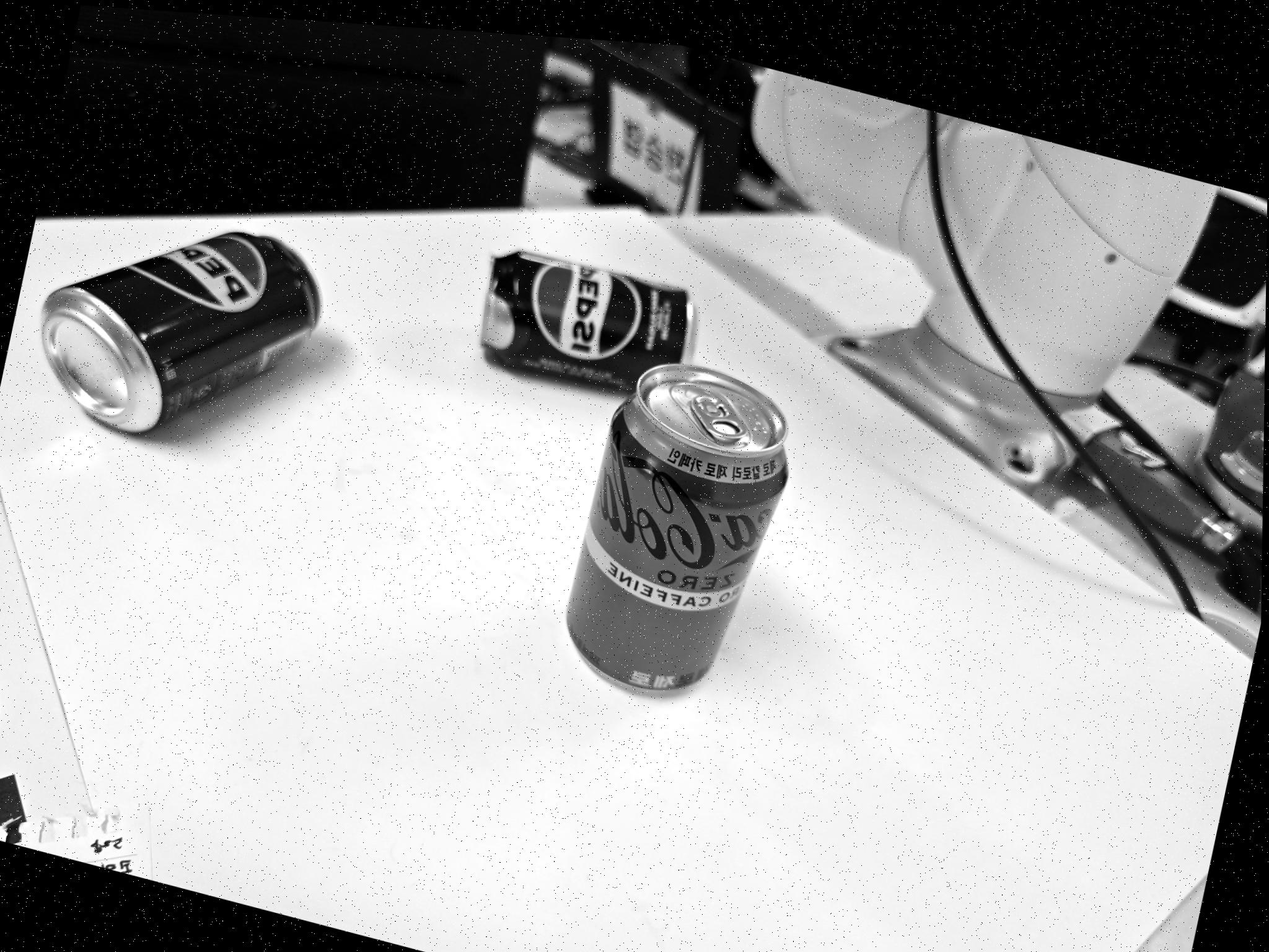can_coke_decaf: (566, 362, 788, 696)
can_pepsi: (37, 230, 322, 433)
can_pepsi_zero: (472, 253, 700, 398)
